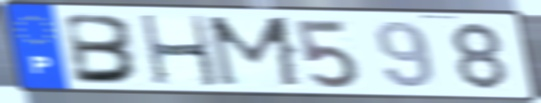5: (291, 16, 364, 90)
8: (446, 19, 513, 92)
9: (373, 19, 438, 91)
B: (62, 11, 143, 86)
H: (137, 13, 223, 89)
M: (204, 14, 307, 90)
